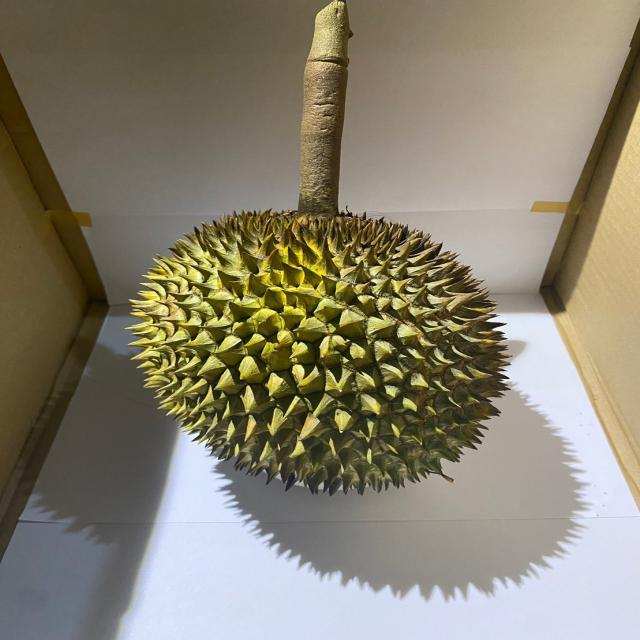immature: (121, 206, 513, 498)
